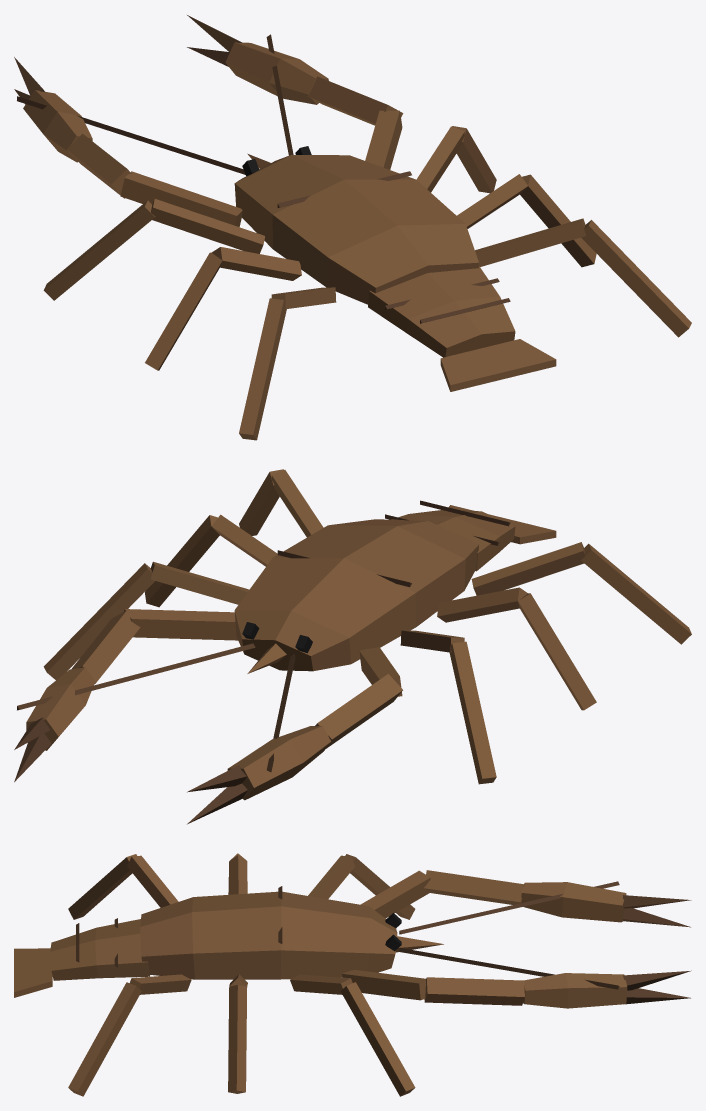
File: egla.glb
3 views of the same model, one above another, from view 1: azimuth 30°, elevation 25°; view 2: azimuth 150°, elevation 25°; view 3: azimuth 270°, elevation 25° (orthographic). The views are drawn at different scales.
Parts seen in each view (by area): view 1: corpo; view 2: corpo; view 3: corpo.
Part boxes in pixels (x1,y1,x2,y2): corpo: (14,15,691,440); corpo: (14,469,691,824); corpo: (14,853,691,1096).
Size of the model in its own units: 0.6488 by 0.1644 by 1.
